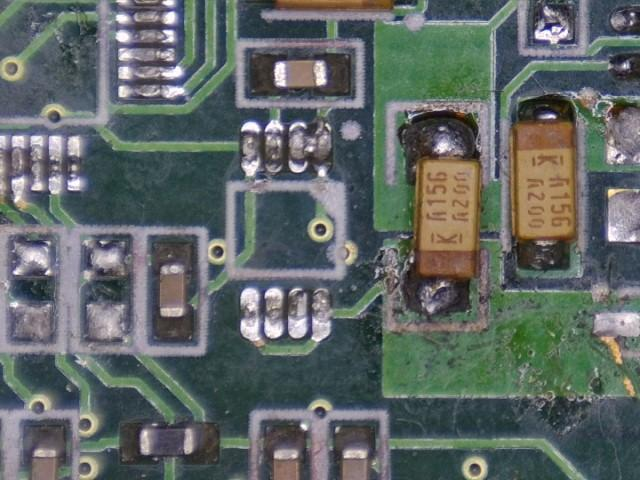Short_circuit: (289, 117, 333, 178)
